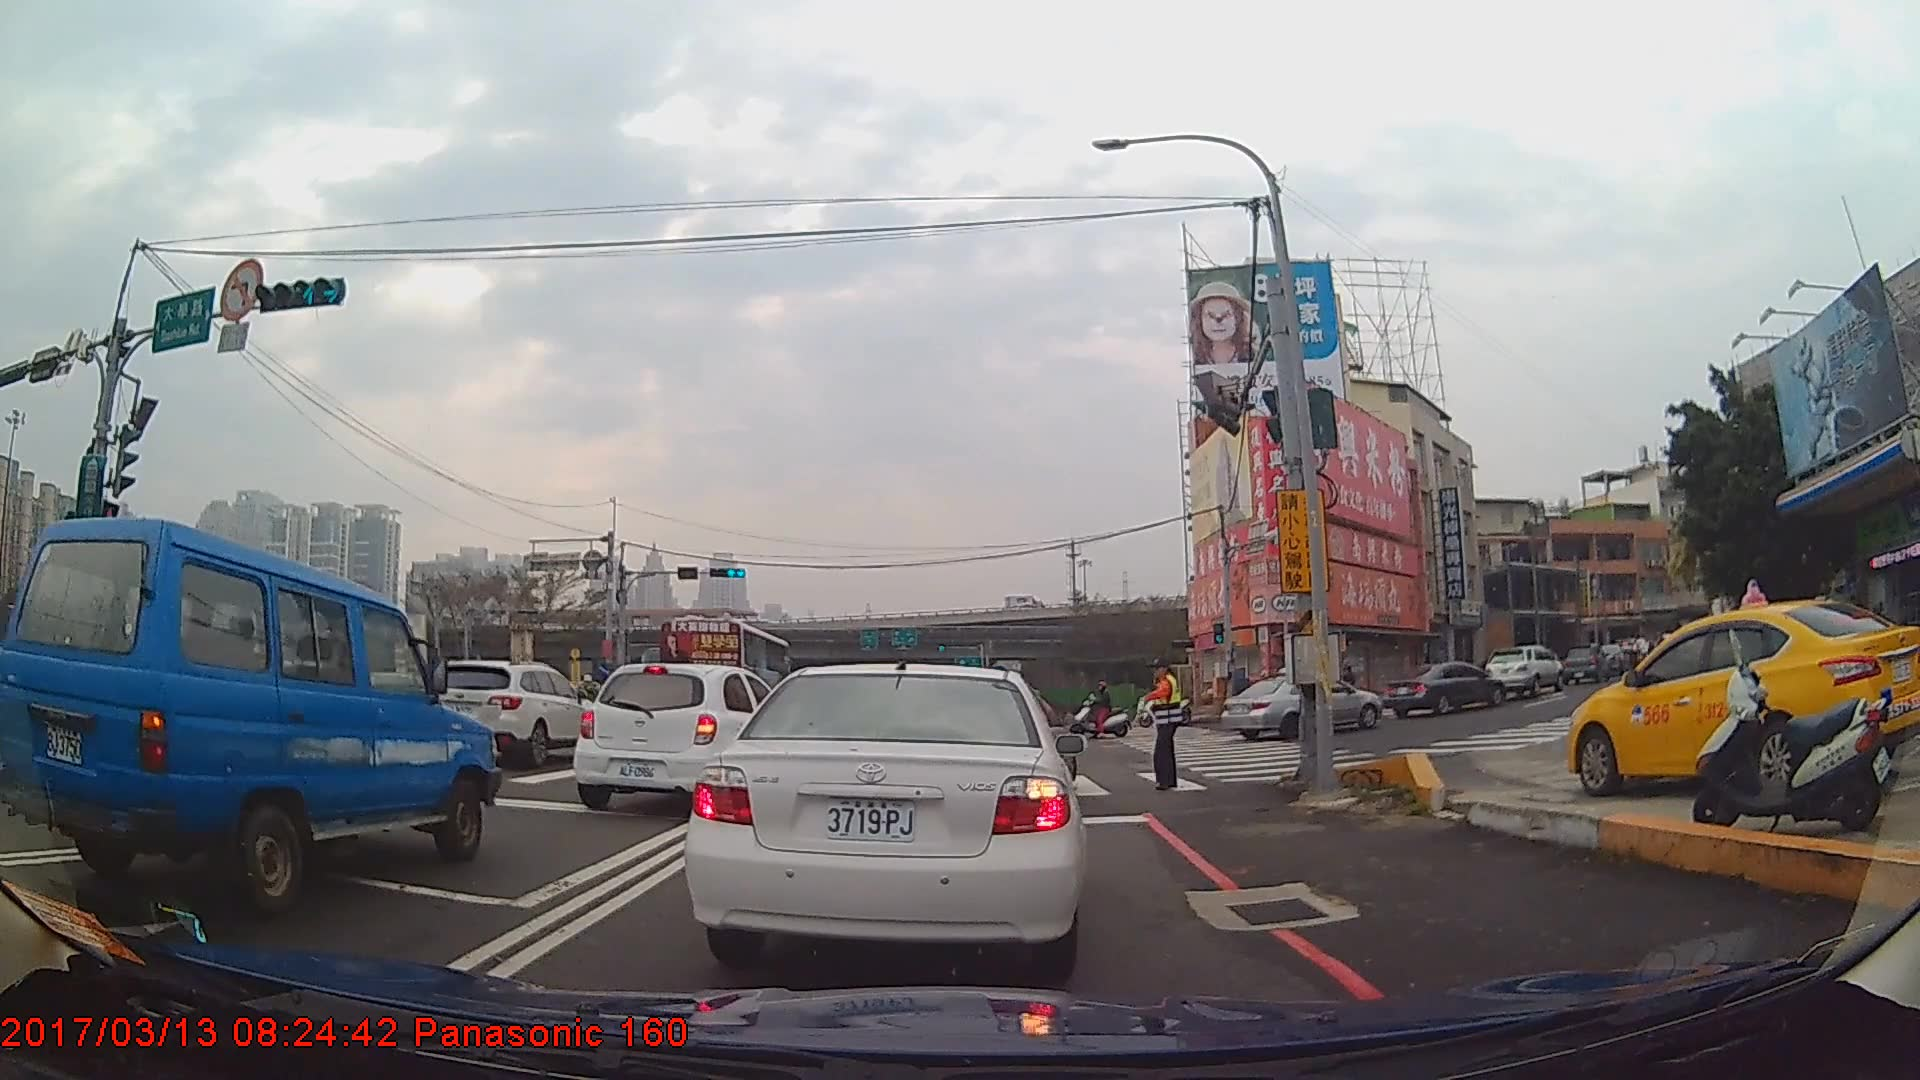pedestrian: (1132, 657, 1189, 792)
rider: (1071, 682, 1132, 738), (577, 675, 603, 737)
vehicle: (0, 515, 501, 916), (679, 655, 1086, 970), (1566, 599, 1920, 797), (572, 662, 803, 817), (418, 657, 602, 765), (658, 616, 791, 719), (1222, 672, 1382, 742), (1383, 660, 1502, 718), (1483, 644, 1564, 698), (1561, 642, 1609, 688)
